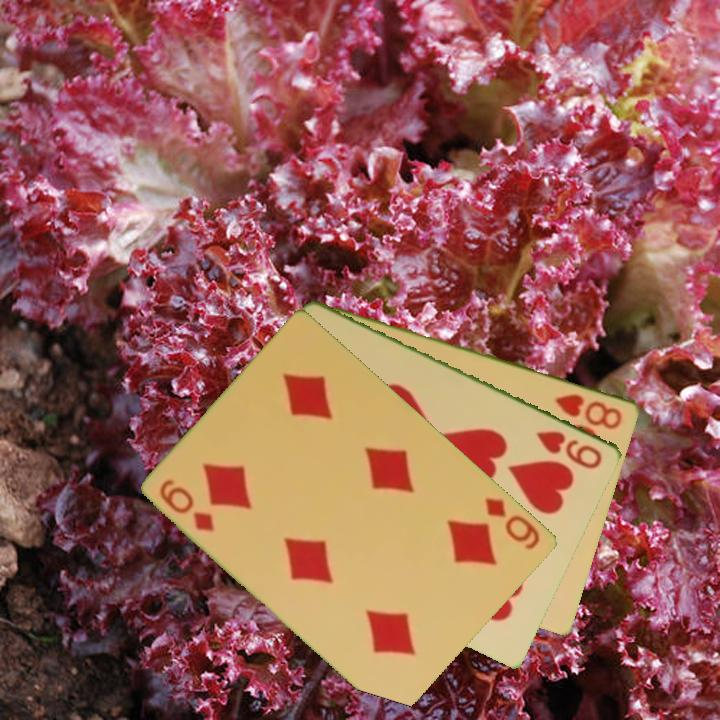6d: (156, 475, 218, 535), (481, 493, 544, 552)
8h: (552, 389, 626, 432)
9h: (533, 427, 606, 472)
